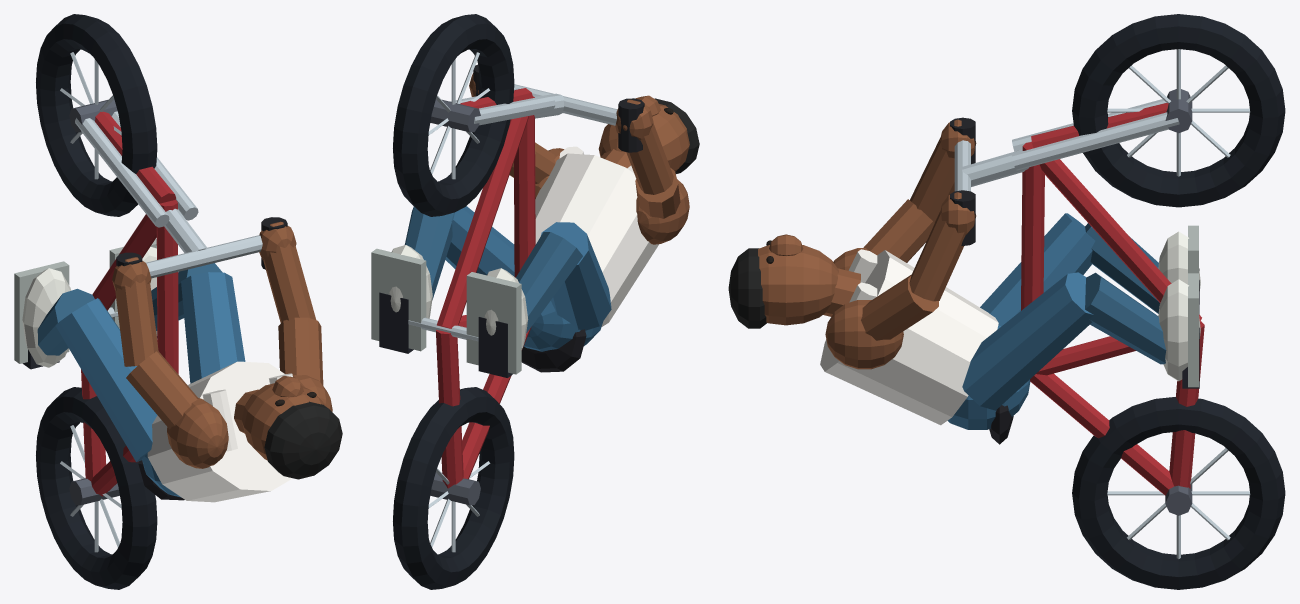
3 renders of one model, left to right at view 1: azimuth 30°, elevation 25°; view 2: azimuth 150°, elevation 25°; view 3: azimuth 270°, elevation 25°, orthographic. The views are drawn at different scales.
Parts seen in each view (by area): view 1: NavigationAvatar; view 2: NavigationAvatar; view 3: NavigationAvatar.
Boxes of the visible parts, x1,y1,x2,y2 form: NavigationAvatar: [14, 14, 342, 589]; NavigationAvatar: [371, 14, 699, 589]; NavigationAvatar: [728, 14, 1285, 589].
Bounding box in the file's own units: 0.9221 × 2.59 × 2.27.
